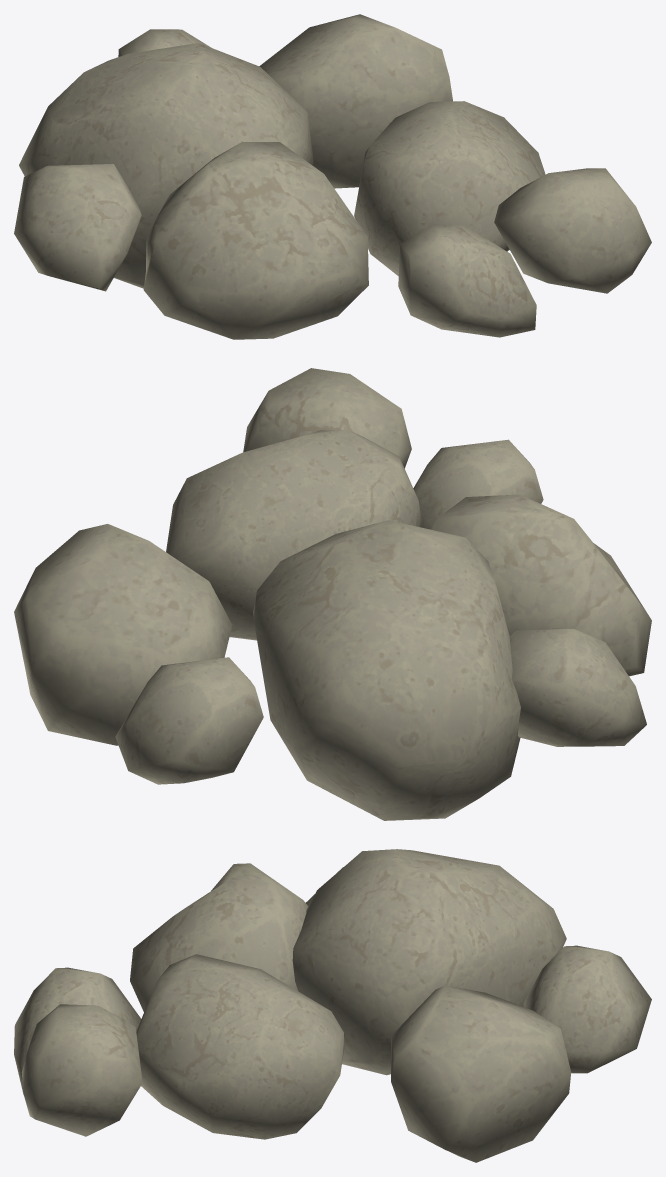
The model's file is MSH_fwOF_Stone_Group_01.fbx.
3 views of the same model, one above another, from view 1: azimuth 30°, elevation 25°; view 2: azimuth 150°, elevation 25°; view 3: azimuth 270°, elevation 25° (orthographic). The views are drawn at different scales.
Parts seen in each view (by area): view 1: MSH_fwOF_Stone_Group_01; view 2: MSH_fwOF_Stone_Group_01; view 3: MSH_fwOF_Stone_Group_01.
Part boxes in pixels (x1,y1,x2,y2): MSH_fwOF_Stone_Group_01: (14, 14, 651, 339); MSH_fwOF_Stone_Group_01: (14, 368, 651, 820); MSH_fwOF_Stone_Group_01: (14, 849, 651, 1162).
Size of the model in its own units: 0.8524 by 0.3715 by 1.01.
